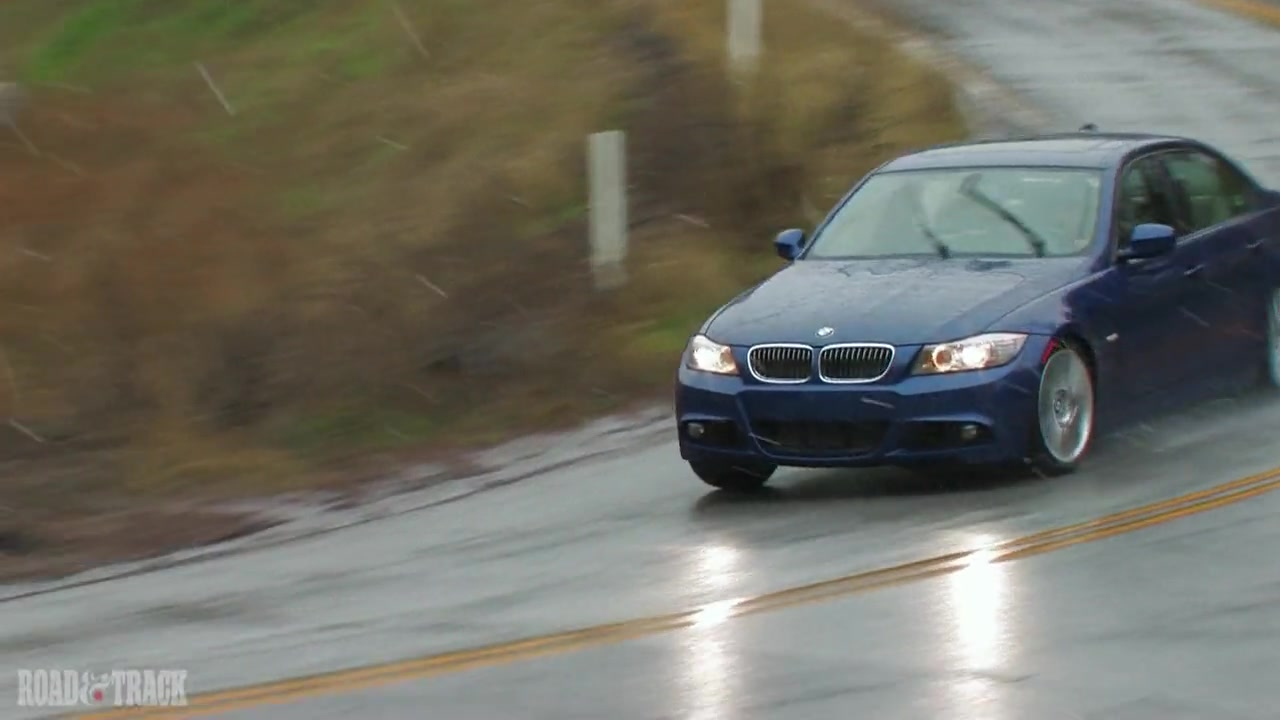car: (674, 127, 1278, 495)
